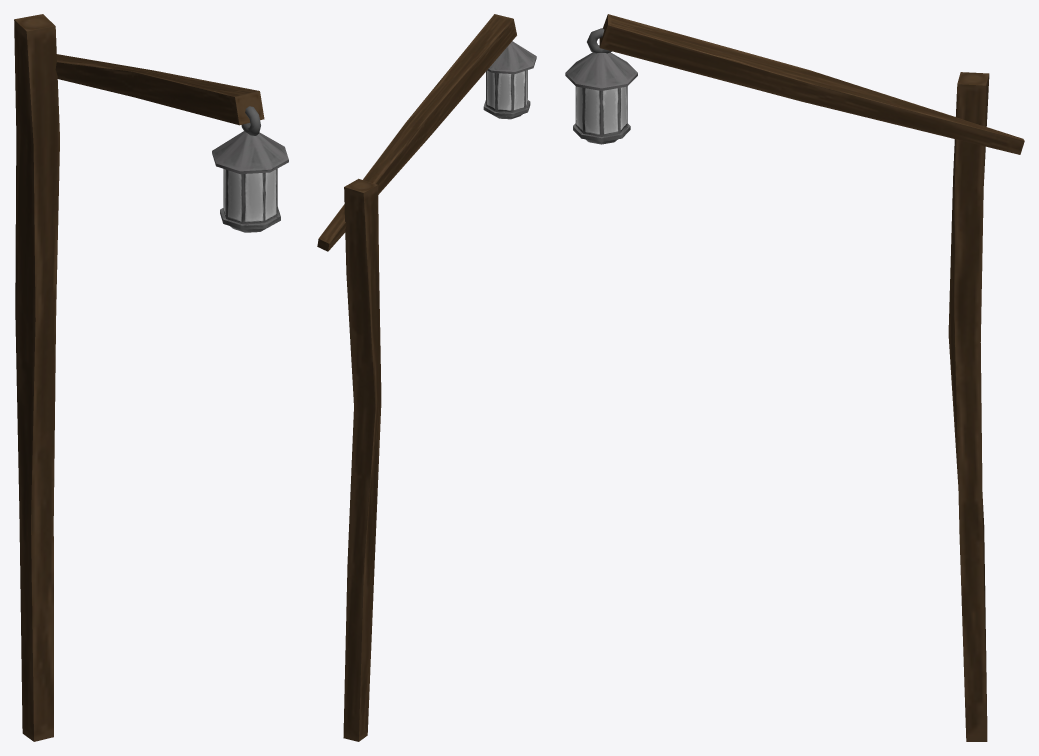
File: LanternPole_Geo.fbx
The picture shows the model from 3 angles, left to right: view 1: azimuth 30°, elevation 25°; view 2: azimuth 150°, elevation 25°; view 3: azimuth 270°, elevation 25°; orthographic projection. The views are drawn at different scales.
Parts seen in each view (by area): view 1: LanternPole_Geo, Lantern_Geo; view 2: LanternPole_Geo, Lantern_Geo; view 3: LanternPole_Geo, Lantern_Geo.
Part boxes in pixels (<box>): LanternPole_Geo: <box>14,14,264,741</box>; Lantern_Geo: <box>212,106,288,232</box>; LanternPole_Geo: <box>317,14,516,741</box>; Lantern_Geo: <box>483,41,536,119</box>; LanternPole_Geo: <box>599,14,1024,741</box>; Lantern_Geo: <box>565,28,637,144</box>.
Size of the model in its own units: 20.95 by 229 by 132.
